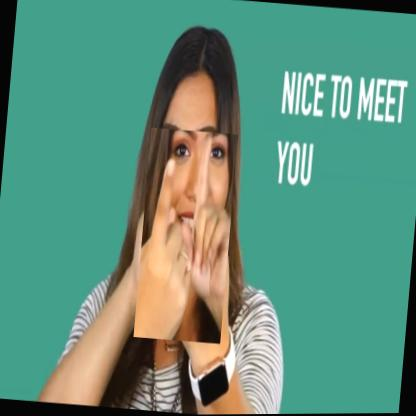NiceToMeetYou: (134, 127, 238, 345)
